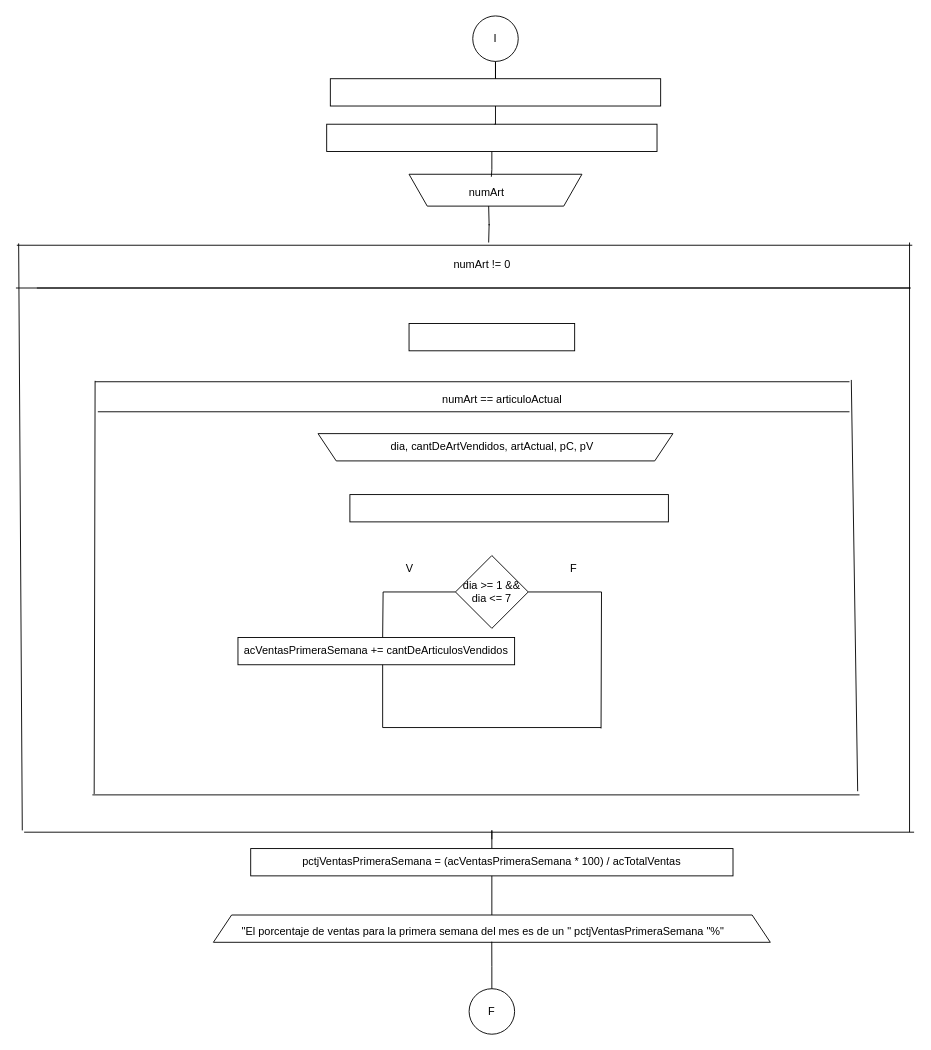
Some shapes in this 931 by 1050 pixel diagram are drawn without their labels. Each missing label, with the box of its shape:
acTotalVentas += cantDeArticulosVendidos: (349, 494, 668, 522)
acTotalVentas = 0: (329, 78, 661, 106)
acVentasPrimeraSemana = 0: (326, 123, 657, 152)
numArt = artActual: (408, 323, 575, 351)
